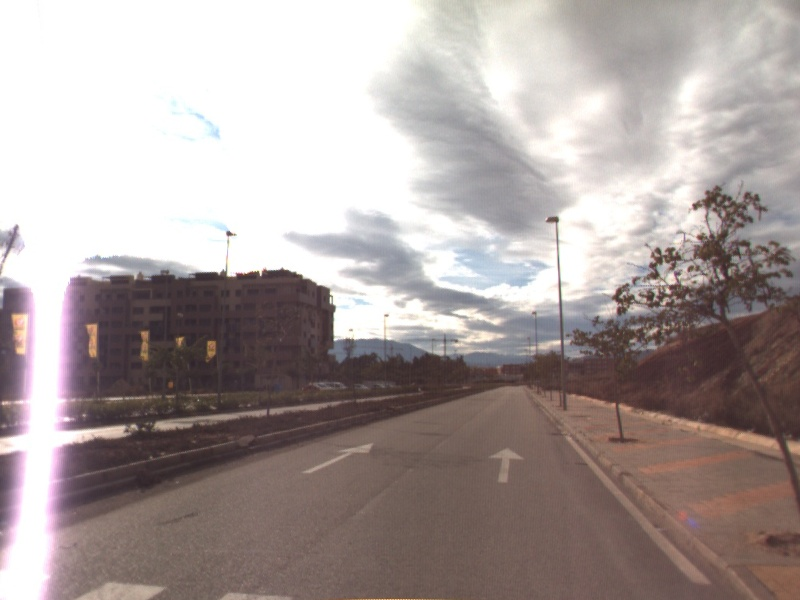STRAIGHT: (299, 440, 376, 476), (486, 445, 527, 485)
